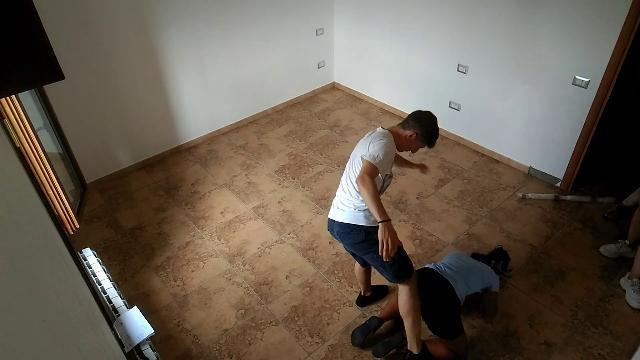non-violence: (598, 211, 640, 311)
violence: (326, 109, 516, 360)
